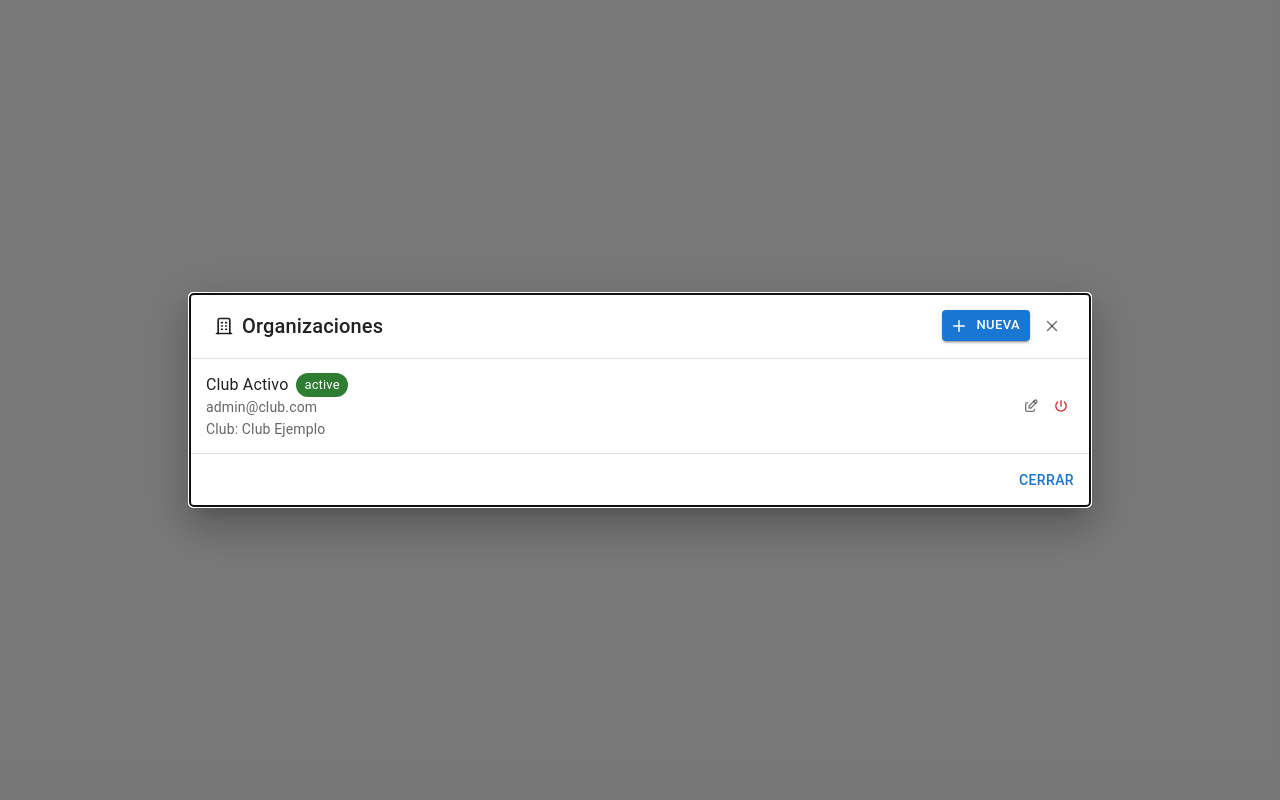
Test: OrganizationsDialog › abre diálogo de confirmación con aviso de trainers al deshabilitar
The image size is (1280, 800).
expect the text "Club Activo" is shown: met, box [206,375,288,394]
What coordinates should you click on to do the following:
click the button named "Deshabilitar organización"
I would click on:
 (1061, 406)
Its box is [1048,393,1074,419].
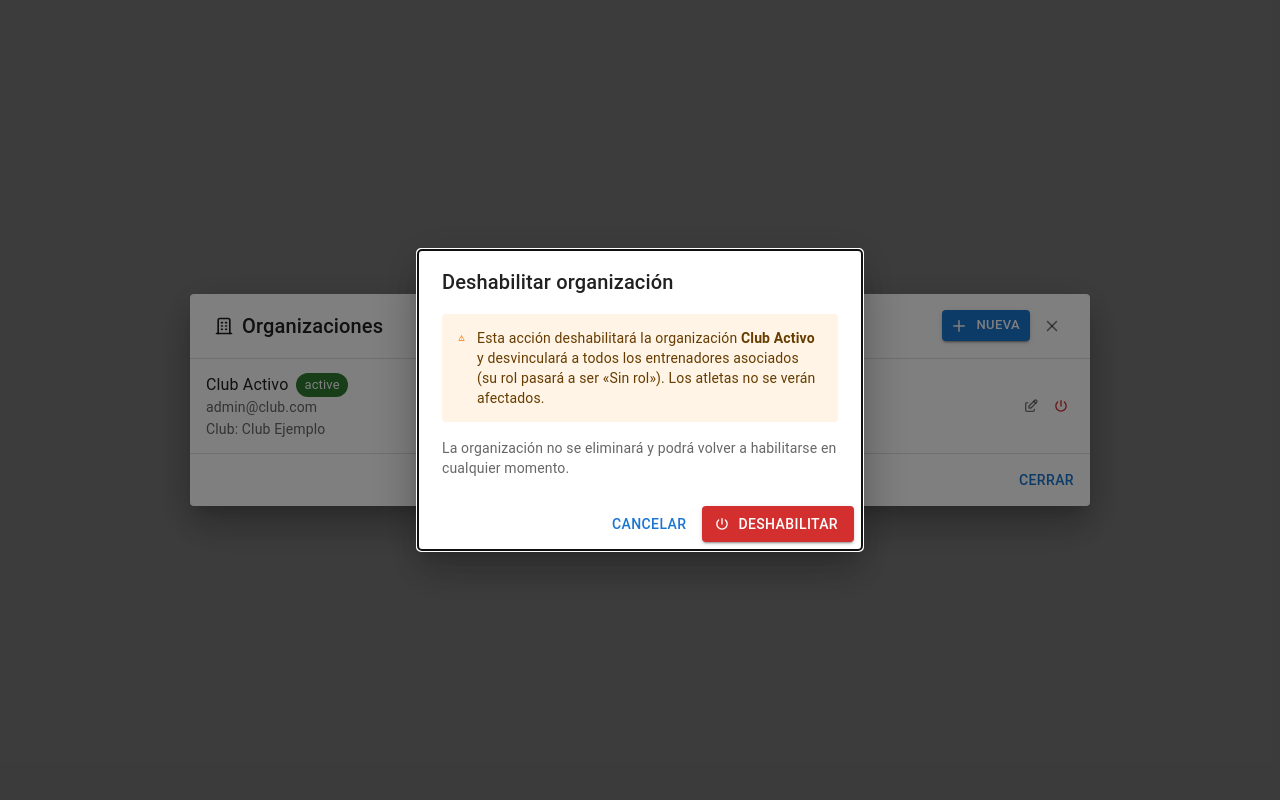
expect the heading "Deshabilitar organización" is shown: met, box [442,270,674,294]
expect the text "desvinculará a todos los entrenadores" is shown: met, box [477,350,815,406]
